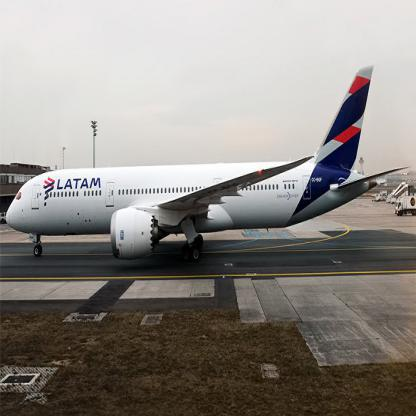CIV_Plane: (2, 56, 408, 269)
